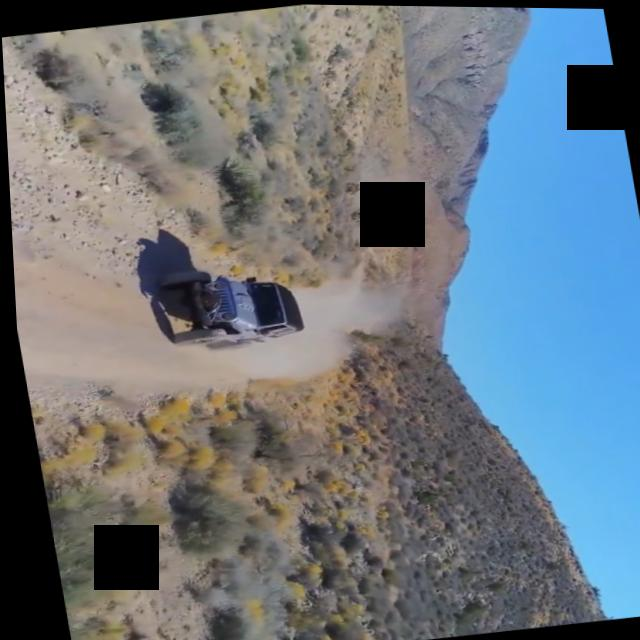Vehicle: (143, 248, 318, 367)
